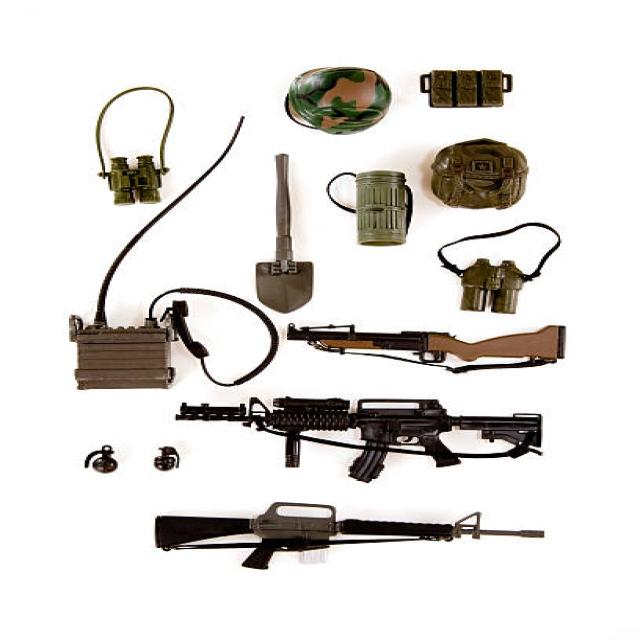grenade: (75, 440, 122, 480), (148, 444, 188, 475)
